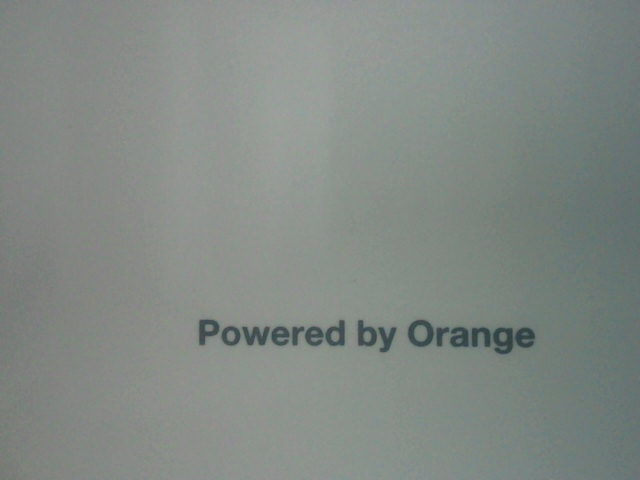AS_PowerByOrange: (196, 315, 543, 358)
